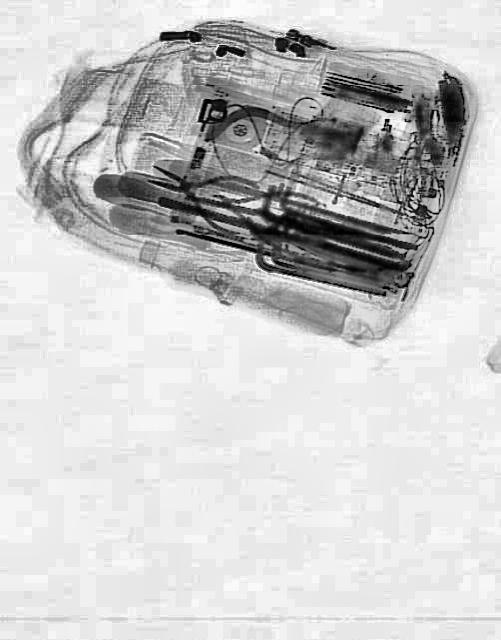Pliers: (140, 141, 258, 241), (205, 175, 271, 232)
